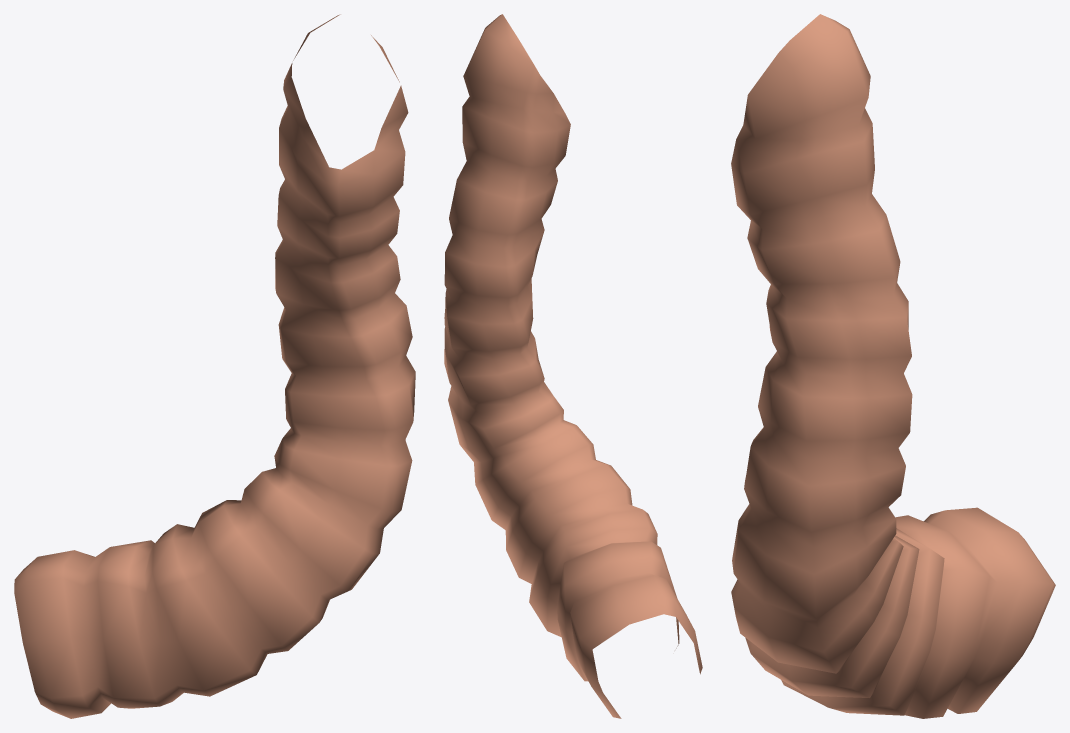
File: descending-colon.glb
3 views of the same model, side by side, from view 1: azimuth 30°, elevation 25°; view 2: azimuth 150°, elevation 25°; view 3: azimuth 270°, elevation 25° (orthographic). The views are drawn at different scales.
Visible parts, largest first — view 1: Descending colon; view 2: Descending colon; view 3: Descending colon.
Boxes of the visible parts, box(x1,y1,x2,y2) form: Descending colon: box(14, 14, 415, 718); Descending colon: box(444, 14, 702, 718); Descending colon: box(731, 14, 1055, 718).
Size of the model in its own units: 0.1363 by 0.2683 by 0.0979.
